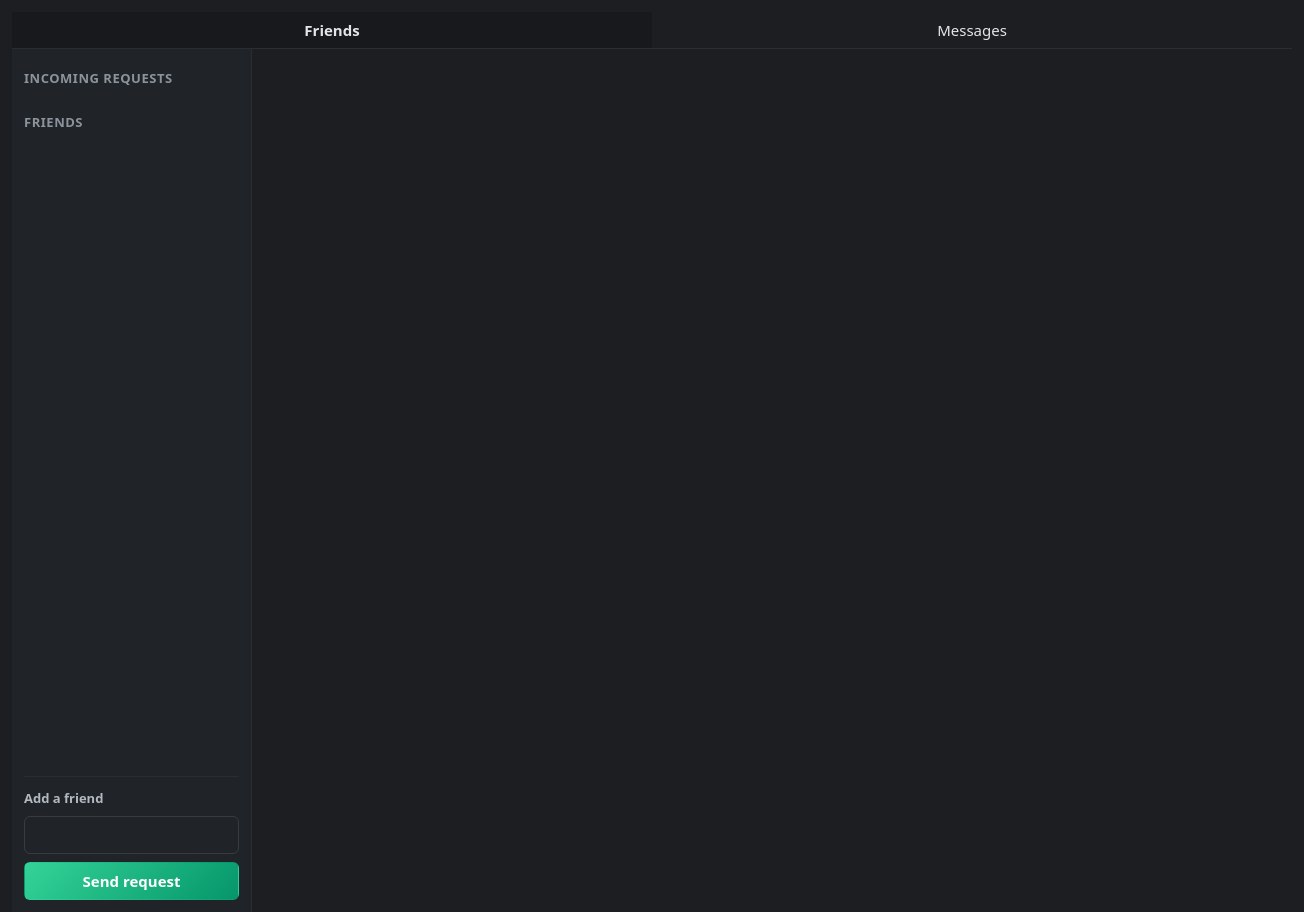
Test: FriendsMode on a narrow viewport › switching to the Messages tab shows Conversations and hides Friends
Click the button "Messages" at (972, 30), box [652,12,1292,48]
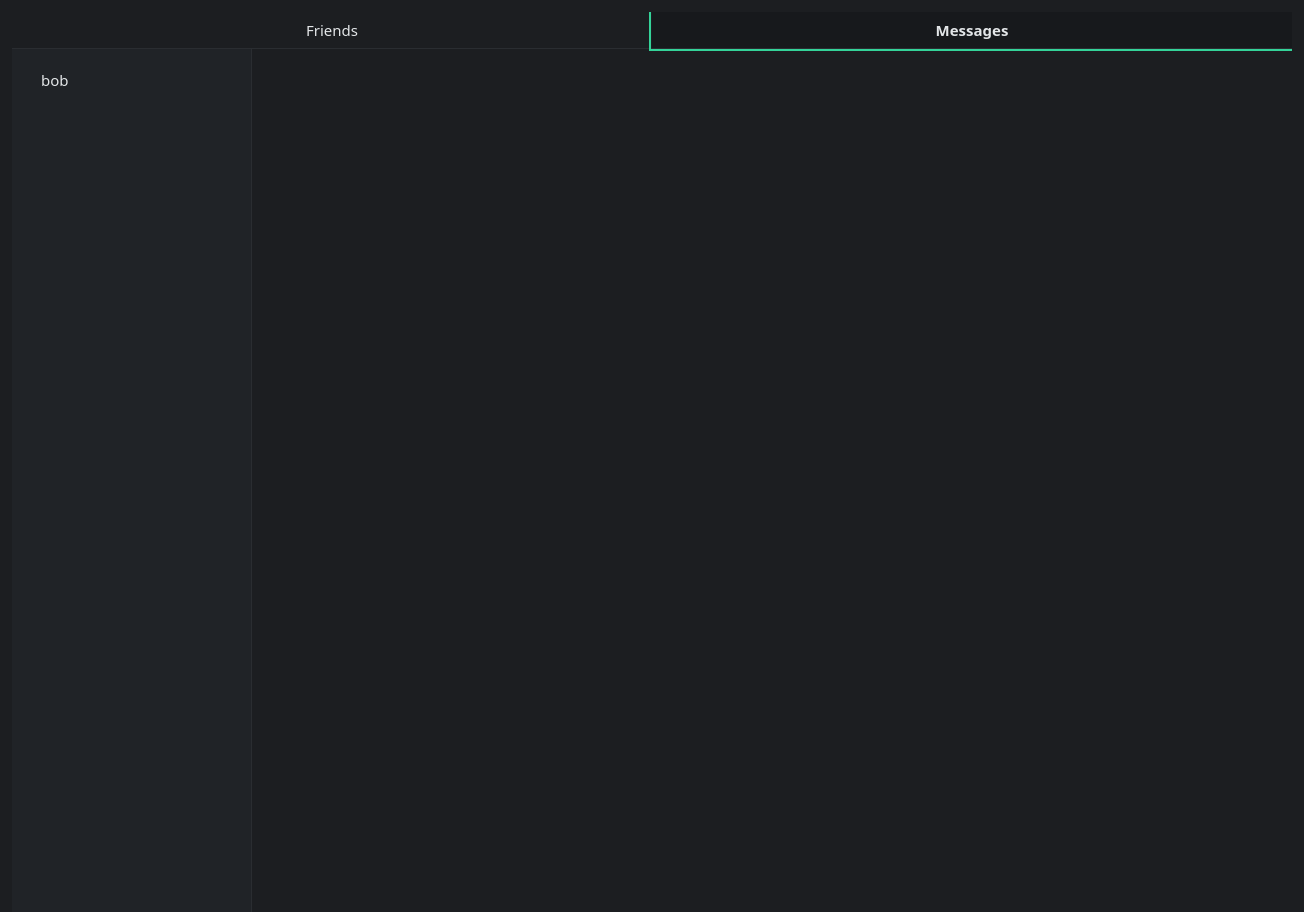
Now the navigation bar named "Conversations" is shown, box [24,61,239,99]
